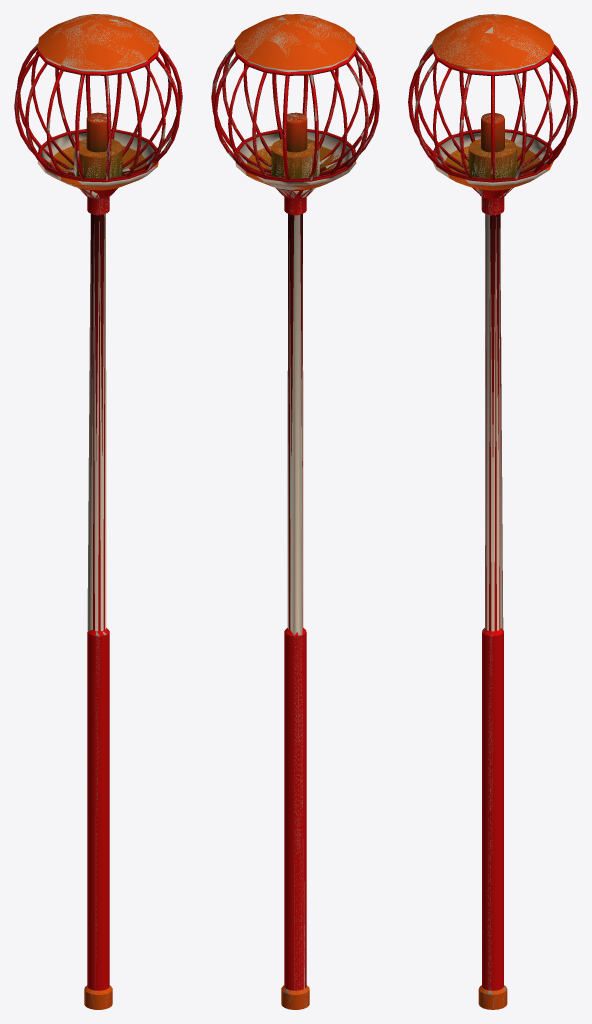
File: KB3D_GAE_Lantern_B.glb
3 views of the same model, side by side, from view 1: azimuth 30°, elevation 25°; view 2: azimuth 150°, elevation 25°; view 3: azimuth 270°, elevation 25° (orthographic).
Visible parts, largest first — view 1: L0, L2; view 2: L0, L2; view 3: L0, L2.
Part boxes in pixels (x1,y1,x2,y2): L0: (14, 14, 182, 1009); L2: (14, 14, 182, 1004); L0: (211, 14, 379, 1009); L2: (211, 14, 374, 1007); L0: (408, 14, 577, 1009); L2: (414, 14, 576, 1008).
Bounding box in the file's own units: 1.02 × 6.54 × 1.02.
